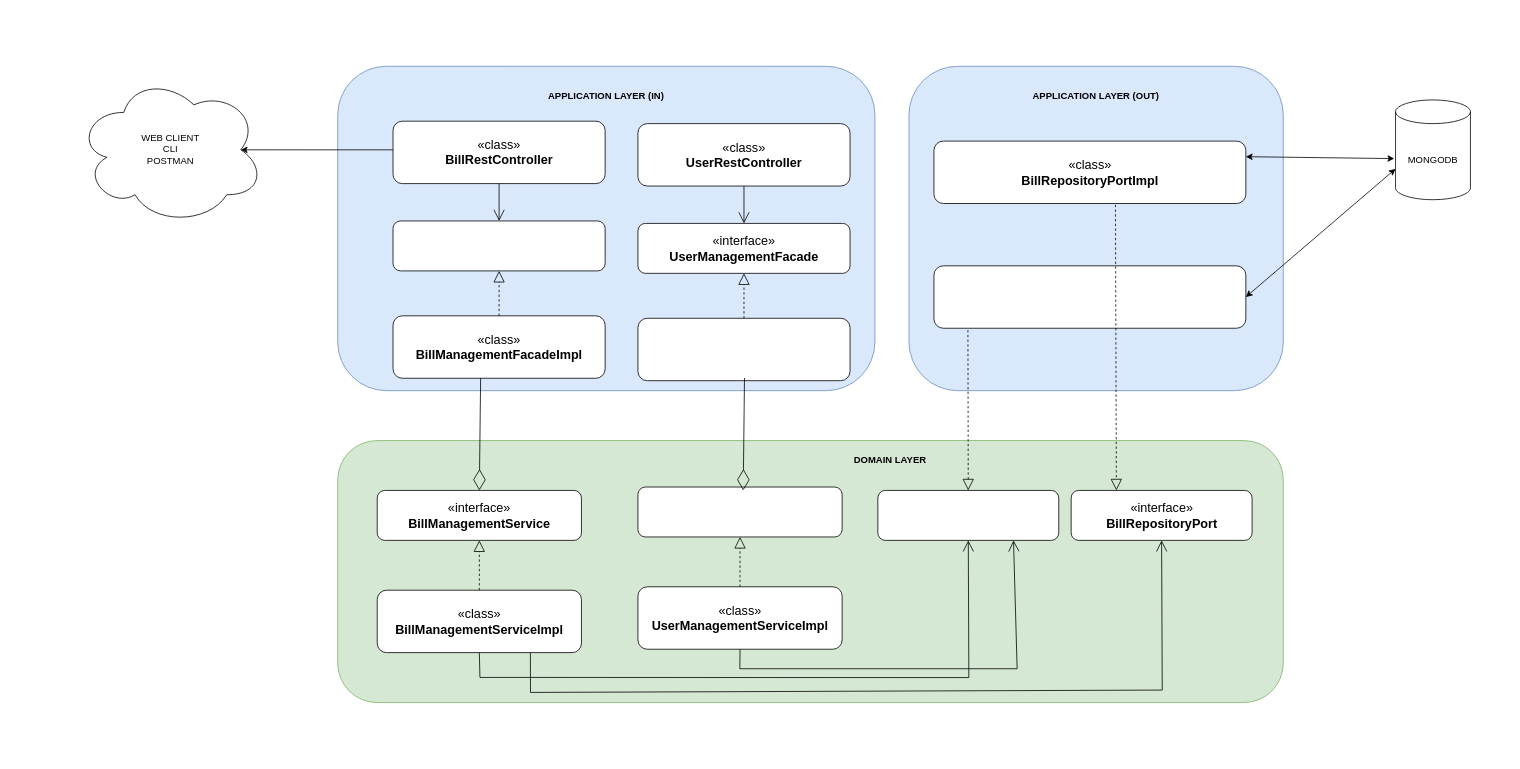
Some shapes in this 1520 by 769 pixel diagram are drawn without their labels. Here are the shapes that lost their labels. From the top down, the box of each, then its label:
(392, 220, 605, 271): «interface» BillManagementFacade
(933, 265, 1246, 328): «class» UserRepositoryPortImpl
(637, 318, 850, 381): «class» UserManagementFacadeImpl
(637, 486, 842, 537): «interface» UserManagementService
(877, 490, 1059, 540): «interface» UserRepositoryPort
